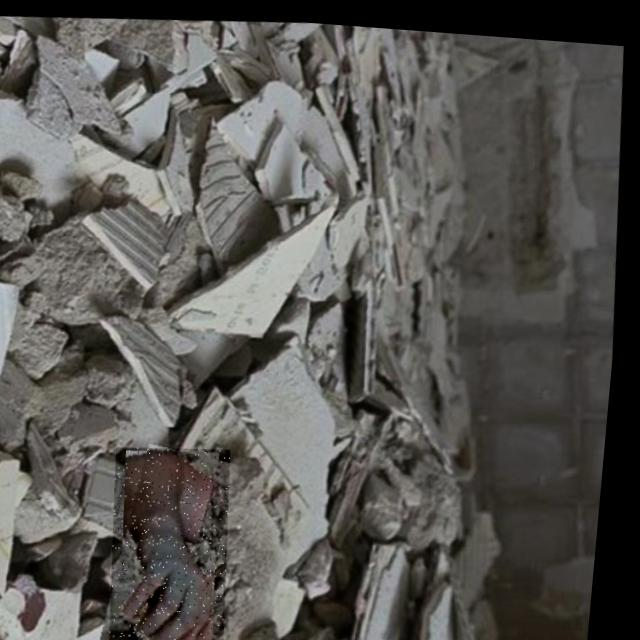Person in Rubble: (109, 438, 249, 640)
